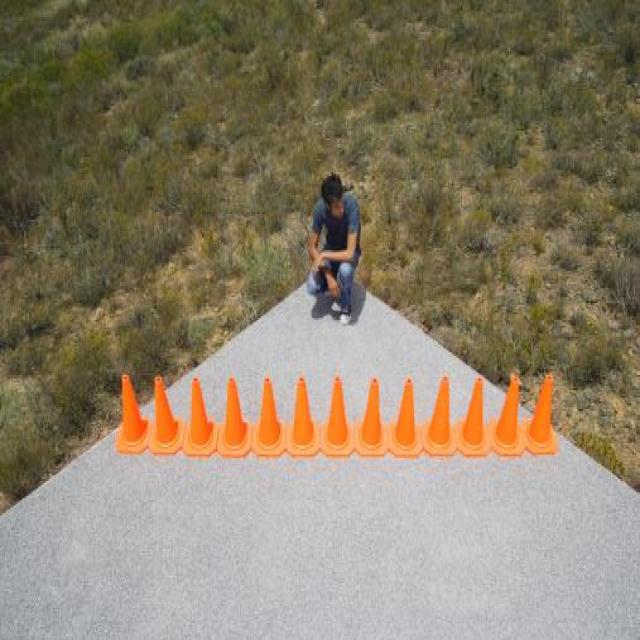Cone: (422, 373, 459, 456), (146, 377, 183, 452), (356, 375, 389, 458), (182, 379, 217, 456), (389, 379, 424, 456), (526, 377, 560, 454), (116, 375, 149, 452), (218, 380, 252, 454), (495, 375, 525, 456), (254, 381, 286, 456), (461, 379, 492, 454), (324, 377, 351, 456), (289, 382, 319, 452)
